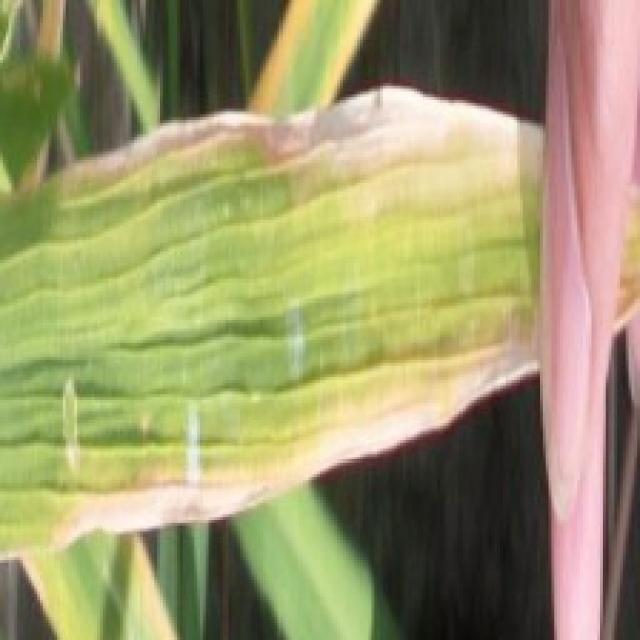Unhealthy: (5, 304, 541, 555), (54, 87, 542, 221), (243, 0, 319, 115), (309, 0, 382, 105), (59, 381, 80, 467), (285, 305, 304, 388), (614, 292, 640, 338), (186, 408, 198, 493)
